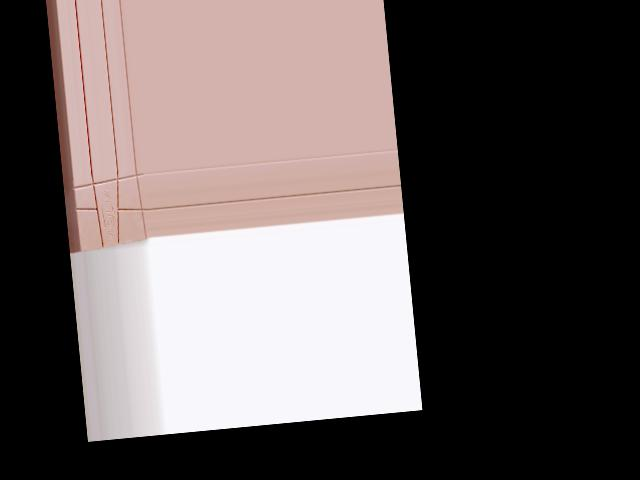chocolate: (69, 169, 150, 254)
